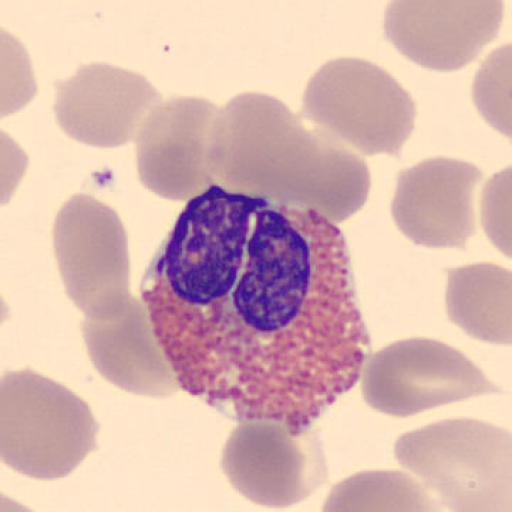RBC: (203, 90, 373, 220), (299, 54, 418, 159), (359, 335, 497, 420), (392, 416, 512, 512), (3, 366, 101, 483), (79, 291, 180, 399), (132, 92, 229, 204), (218, 417, 331, 510), (51, 60, 164, 152), (52, 192, 133, 320), (381, 1, 506, 74), (388, 155, 478, 251), (443, 259, 512, 347), (317, 467, 442, 512), (471, 40, 512, 141), (2, 27, 38, 120), (479, 163, 512, 262), (0, 127, 30, 210), (0, 491, 50, 512), (2, 489, 34, 512)
WBC: (142, 183, 370, 428)
